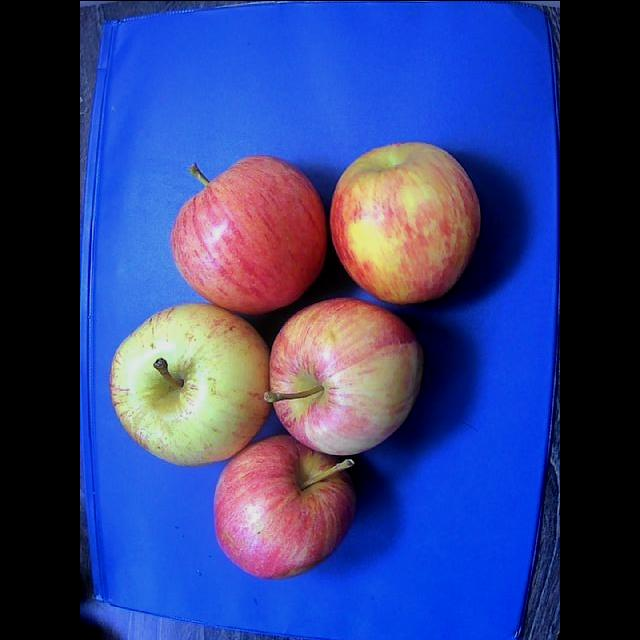manzana: (109, 303, 269, 464), (264, 297, 422, 453), (171, 154, 326, 311), (330, 142, 480, 303), (214, 435, 355, 577)
